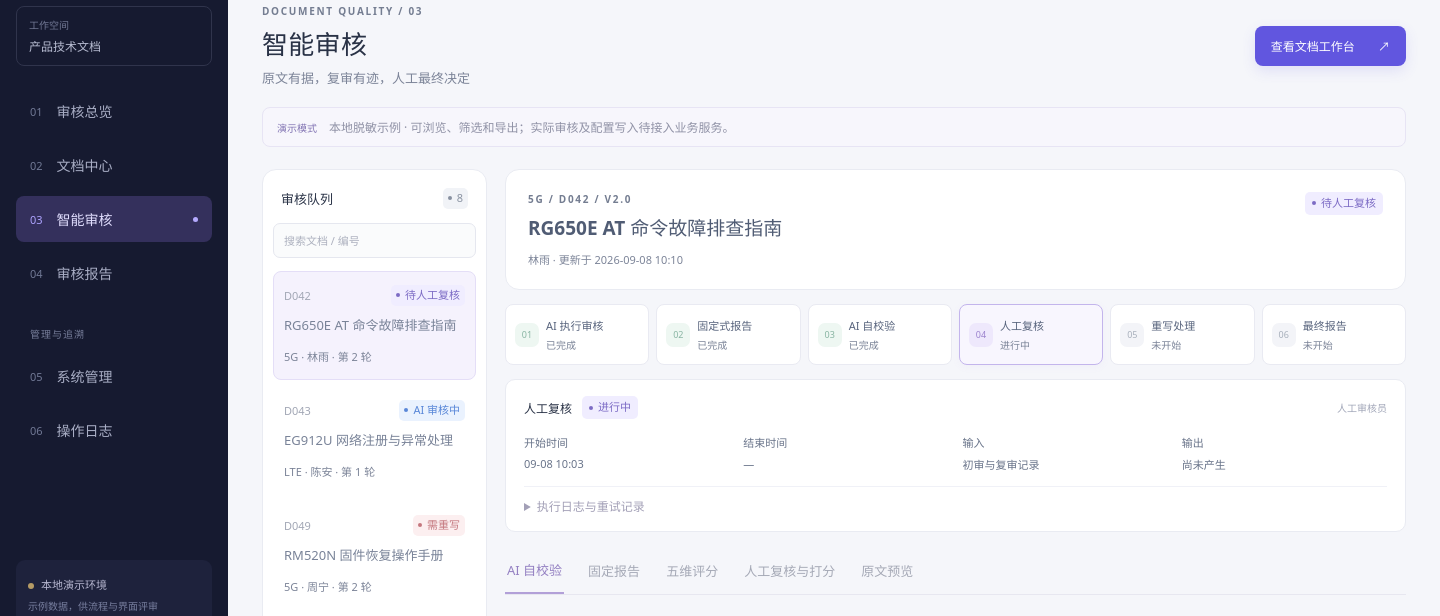
local demonstration user journeys › preserves initial findings and excludes verification additions from the fixed report
The width and height of the screenshot is (1440, 616).
Step 1. Click the tab "固定报告" → [614, 572], box 586,550 -> 642,594
(page scrolled)
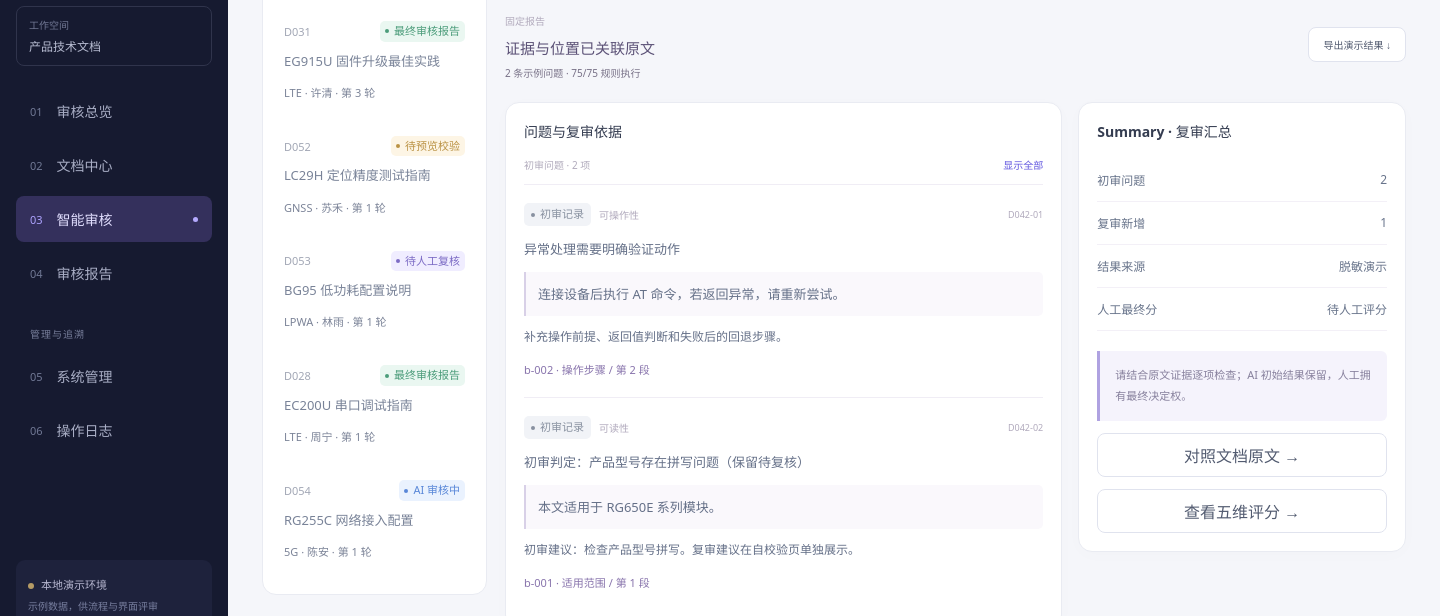
Now the heading "初审判定：产品型号存在拼写问题（保留待复核）" is shown, box 524,453 -> 810,471
